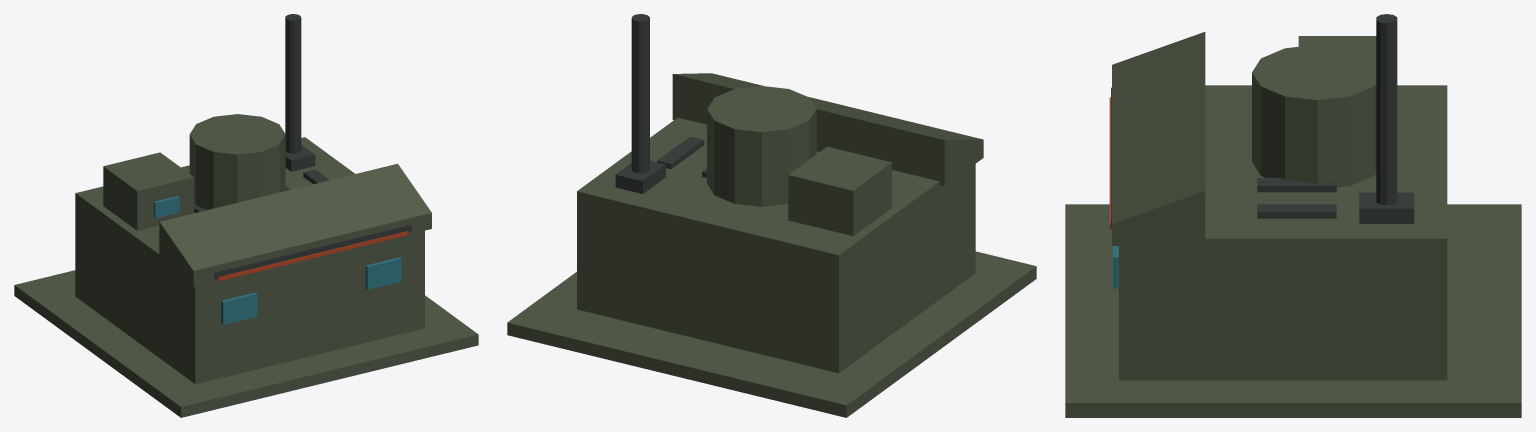
File: Bastion_CommunicationsCenter_Base.obj
The picture shows the model from 3 angles, left to right: view 1: azimuth 30°, elevation 25°; view 2: azimuth 150°, elevation 25°; view 3: azimuth 270°, elevation 25°; orthographic projection. The views are drawn at different scales.
Visible parts, largest first — view 1: Bastion_CommunicationsCenter_Base; view 2: Bastion_CommunicationsCenter_Base; view 3: Bastion_CommunicationsCenter_Base.
Part boxes in pixels (bbox=[...]): Bastion_CommunicationsCenter_Base: bbox=[14, 14, 478, 417]; Bastion_CommunicationsCenter_Base: bbox=[507, 14, 1036, 417]; Bastion_CommunicationsCenter_Base: bbox=[1065, 14, 1521, 417].
Bounding box in the file's own units: 6.8 × 5.65 × 6.6.
1 material, 1 textured.
